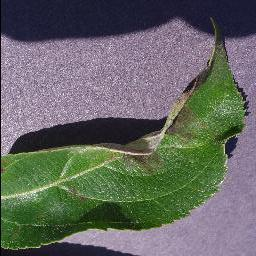apple healthy: (0, 14, 249, 252)
